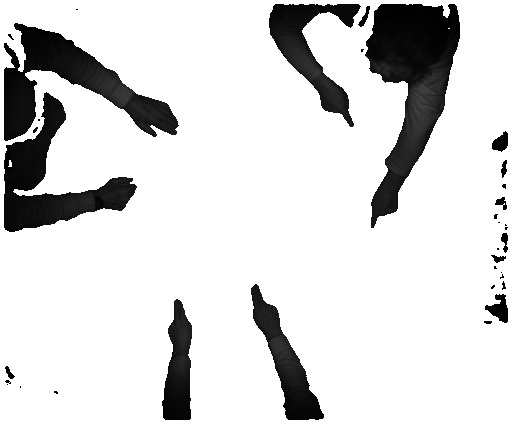fist: (103, 176, 142, 215)
hand: (130, 97, 183, 143), (248, 280, 285, 335), (317, 80, 359, 127), (368, 182, 403, 231), (168, 296, 191, 352)
